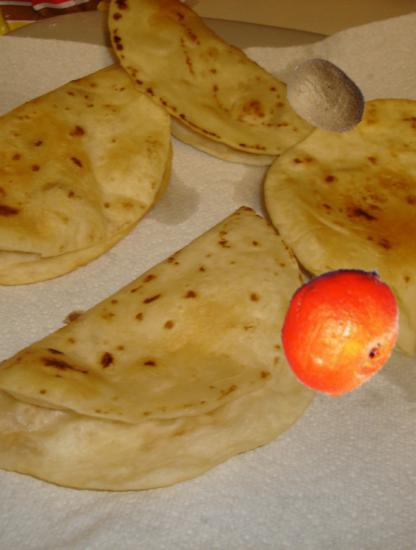Clementine: (272, 258, 410, 396)
Kiwi: (284, 55, 369, 140)
